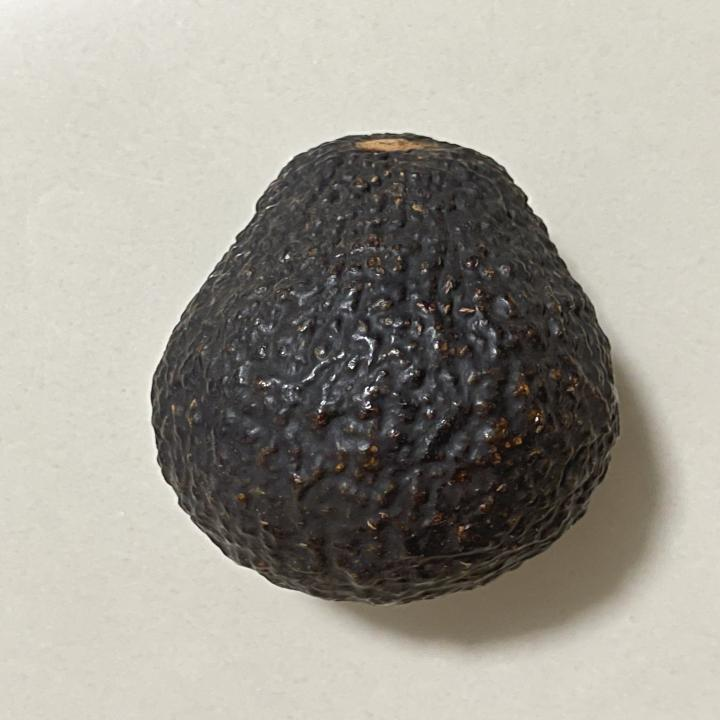Level2: (142, 125, 624, 612)
